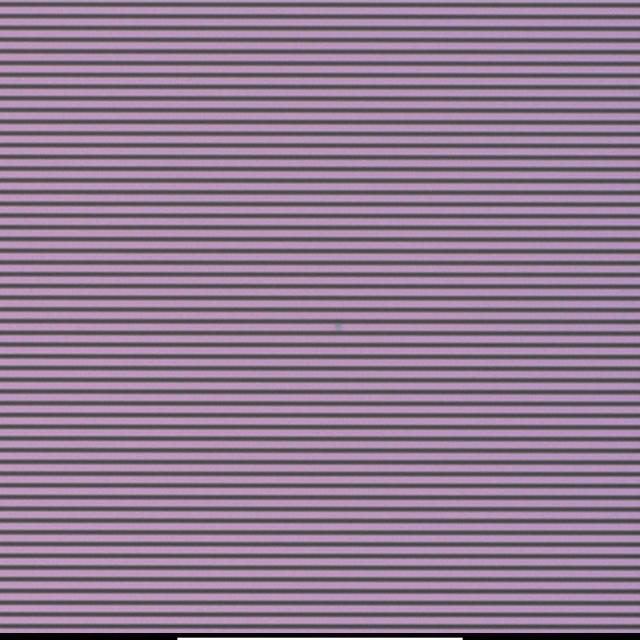nonvisual: (331, 319, 347, 335)
